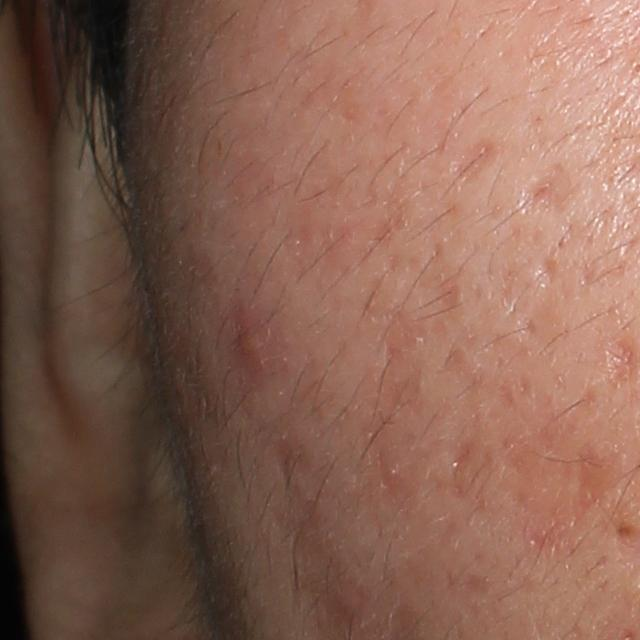atrophic_scar: (560, 446, 628, 522), (511, 160, 587, 226), (443, 136, 506, 193), (528, 252, 564, 297)
papule: (230, 300, 269, 376)
